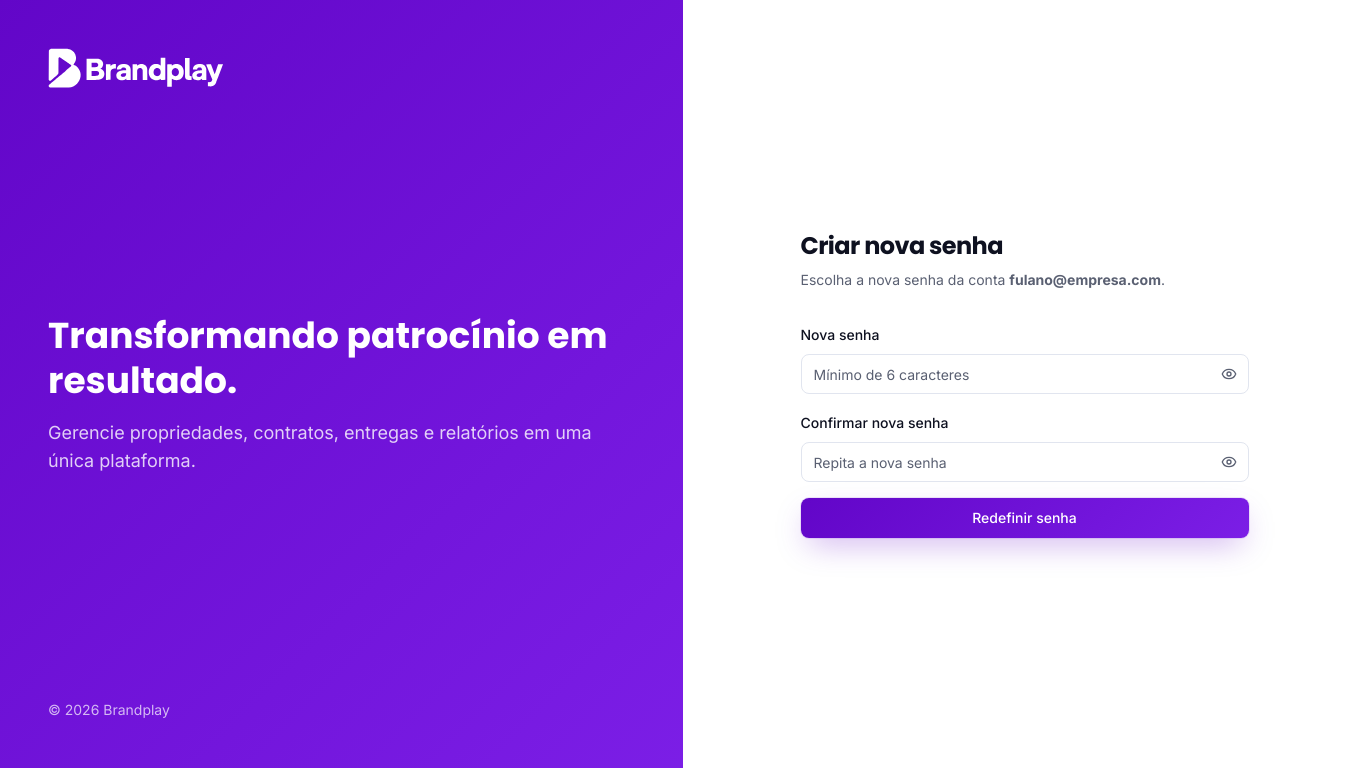
it: ResetarSenha › não envia com confirmação diferente
Type "nova-senha" into the password field labelled "Nova senha" at (1024, 374), box [800,354,1248,394]
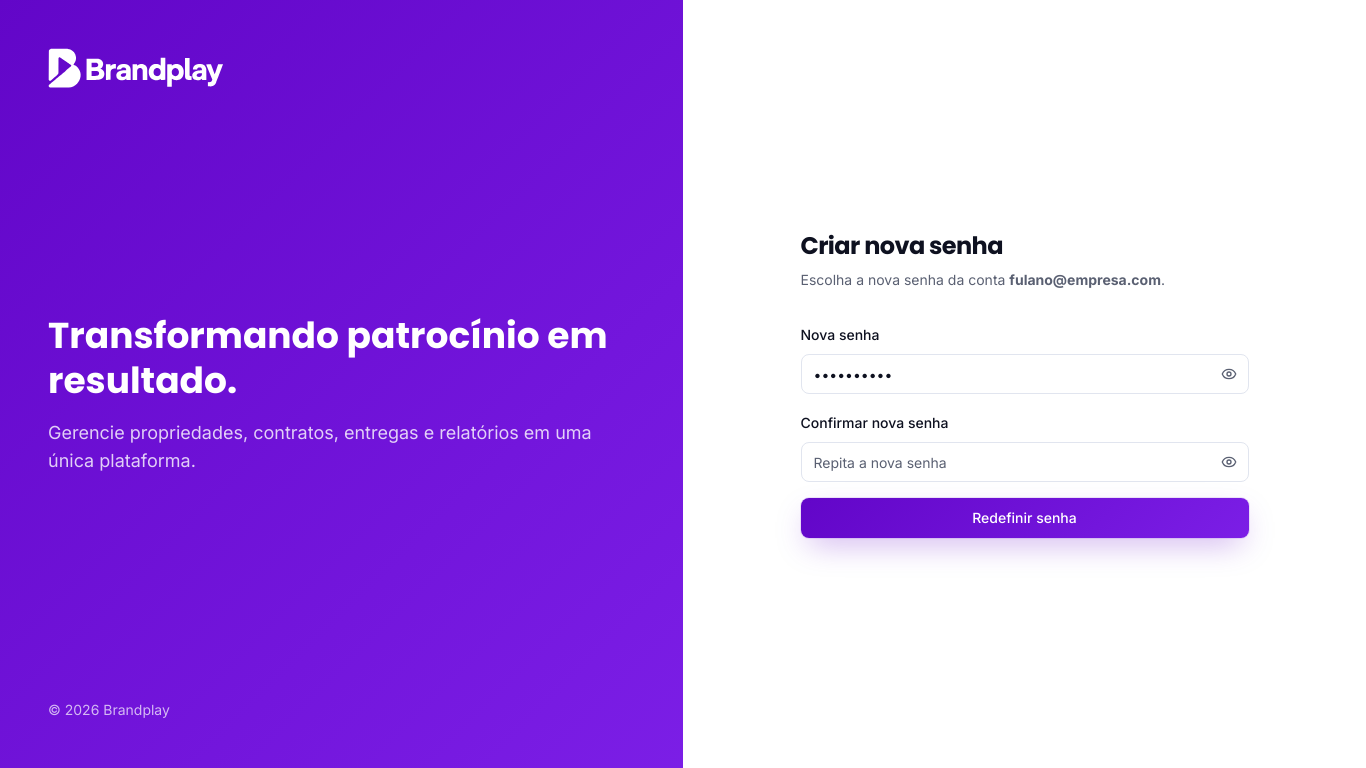
Type "outra-senha" into the password field labelled "Confirmar nova senha" at (1024, 462), box [800,442,1248,482]
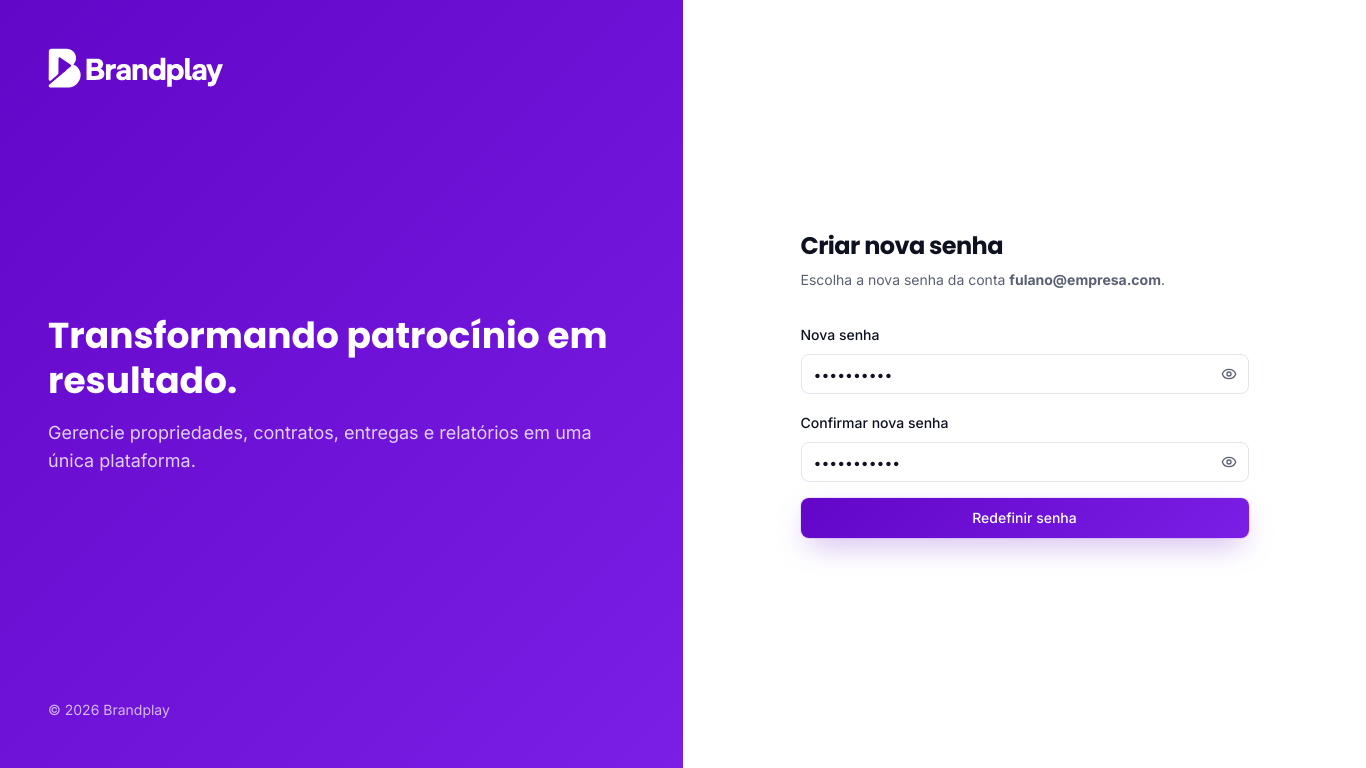
Click the button "Redefinir senha" at (1024, 518), box [800,498,1248,538]
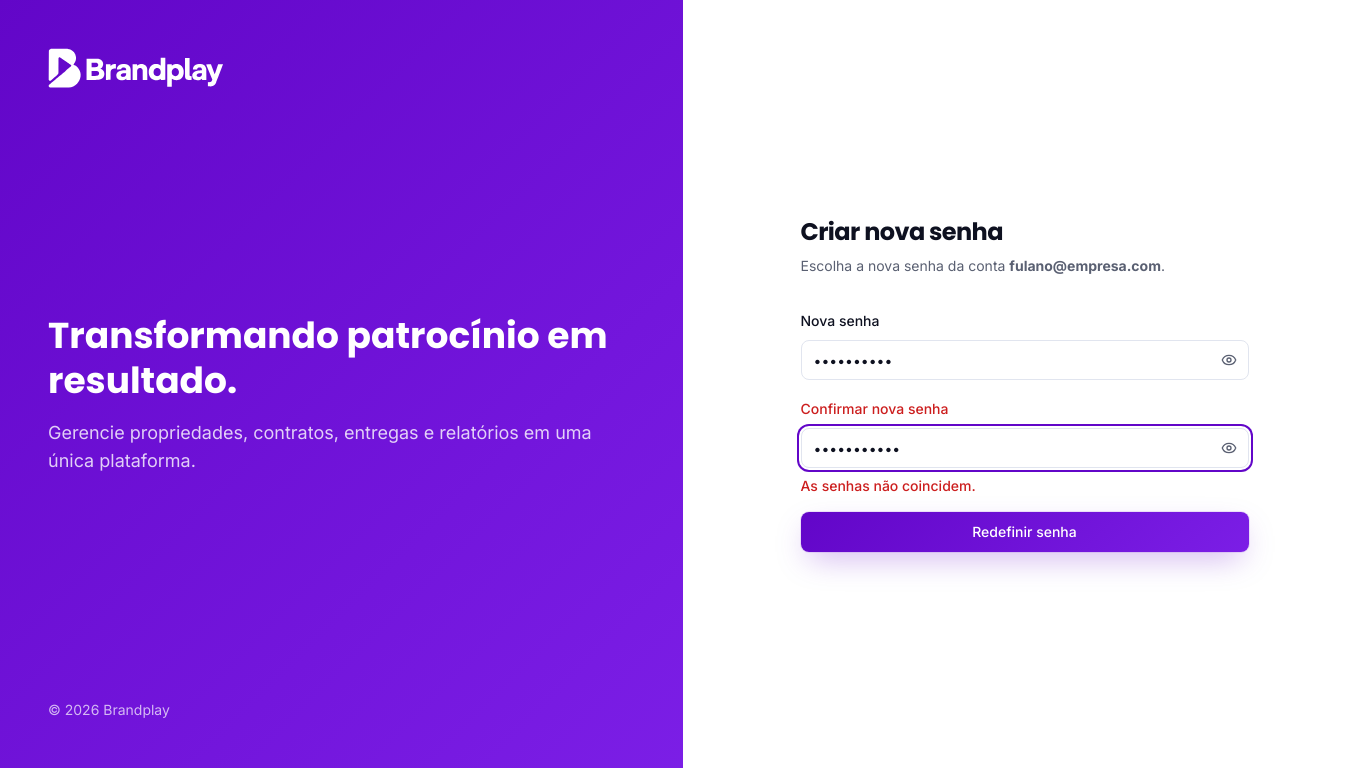
Result: the text "As senhas não coincidem." is shown at [800,477,976,494]
